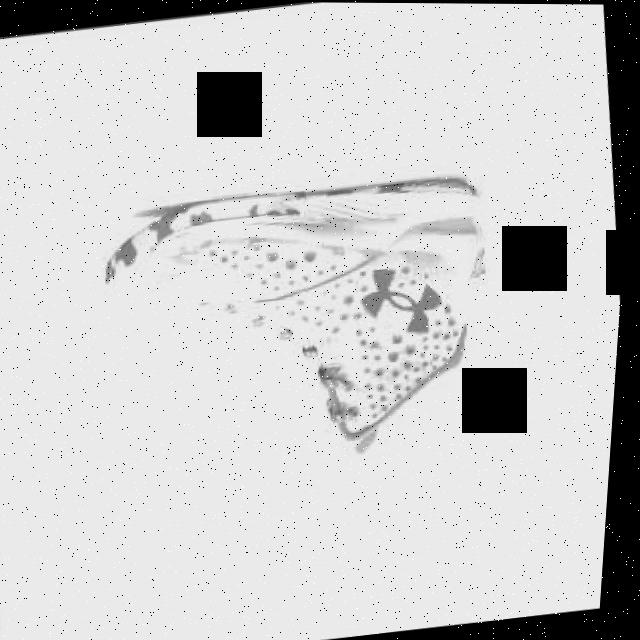shoe: (90, 164, 515, 486)
